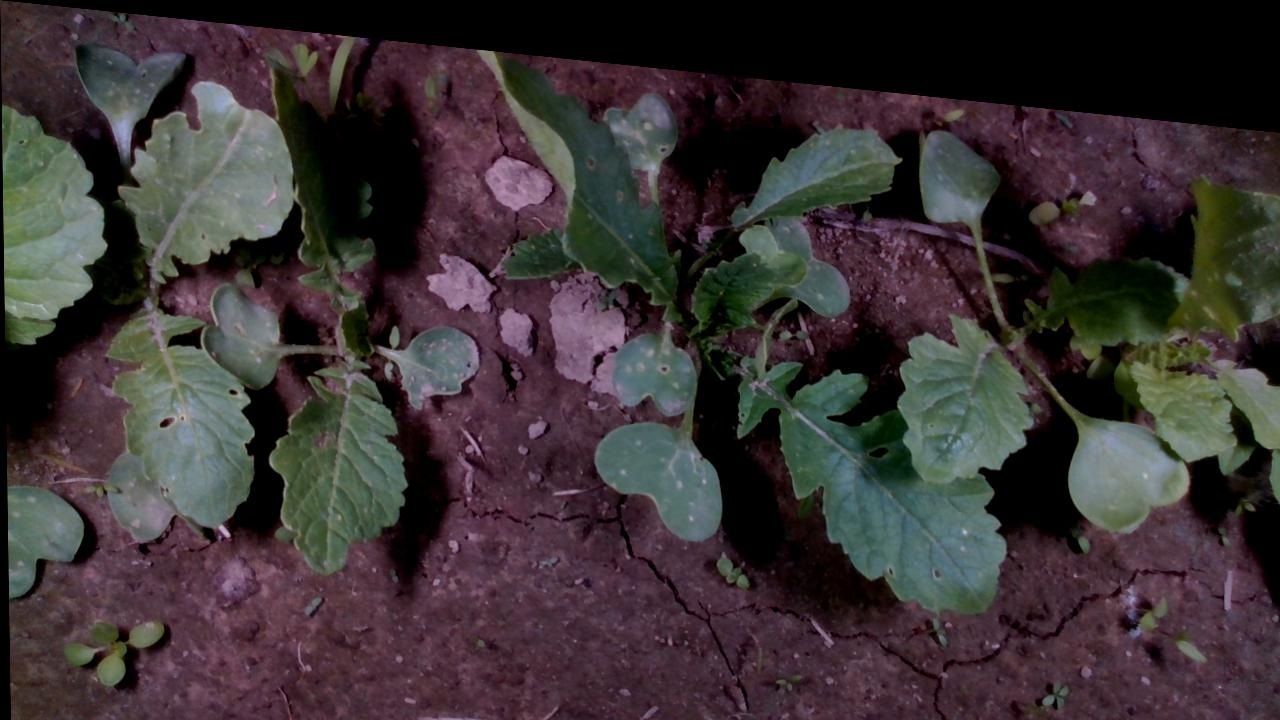weed: (710, 537, 751, 576)
